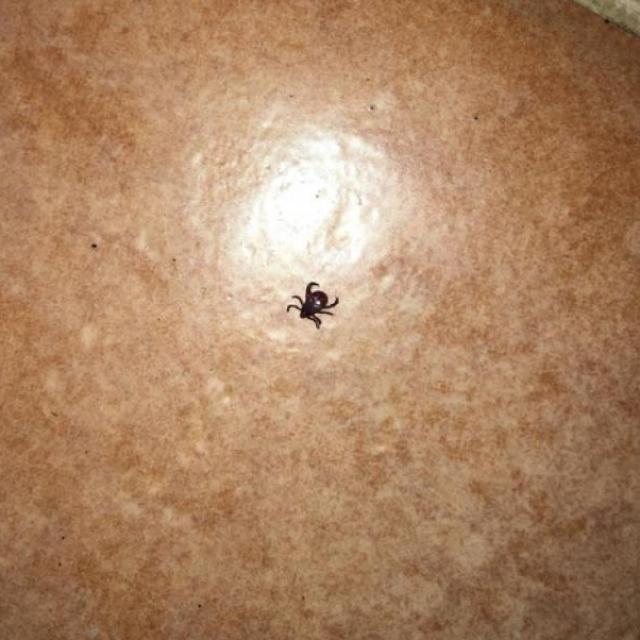Rhipicephalus Sanguineus-M: (279, 278, 343, 335)
